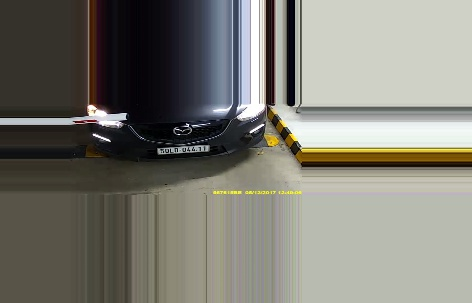plate: (155, 143, 213, 154)
